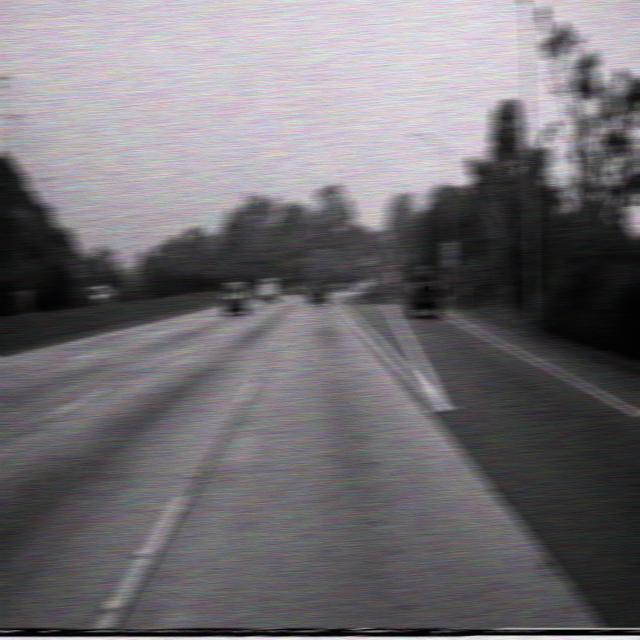speedLimit45: (440, 239, 456, 269)
